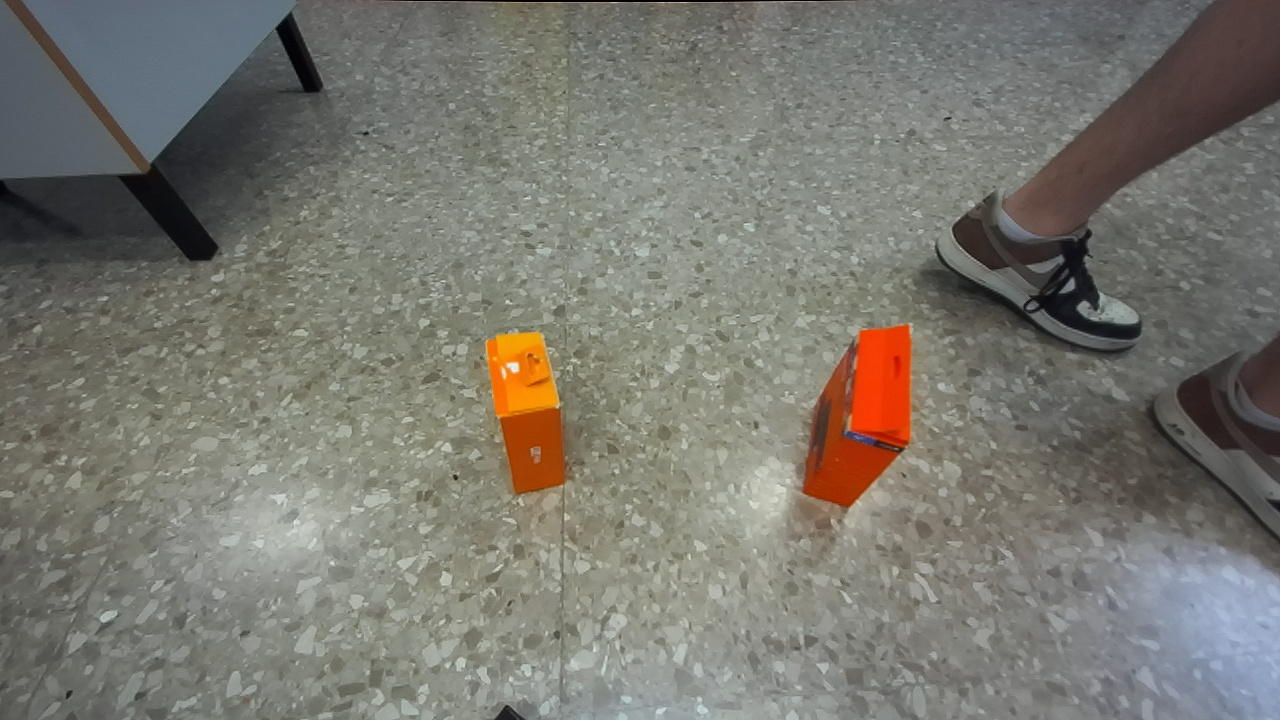caja_manguera: (805, 326, 911, 506)
caja_pcb: (486, 332, 565, 492)
